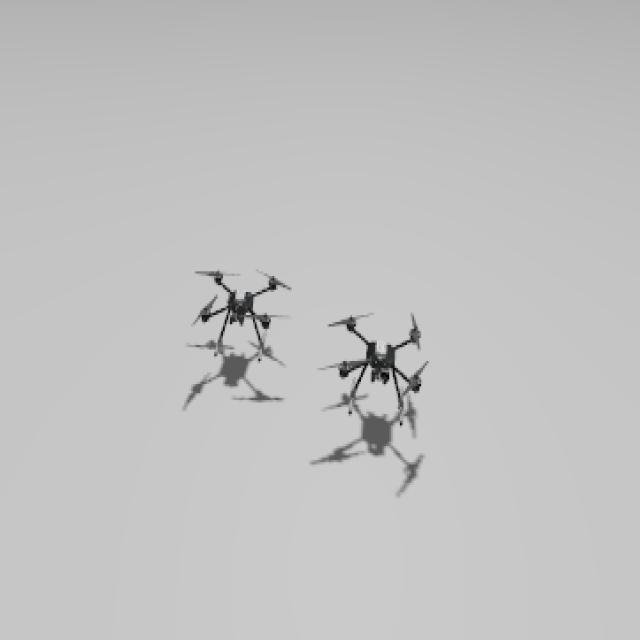drone: (322, 306, 433, 416), (192, 267, 291, 361)
